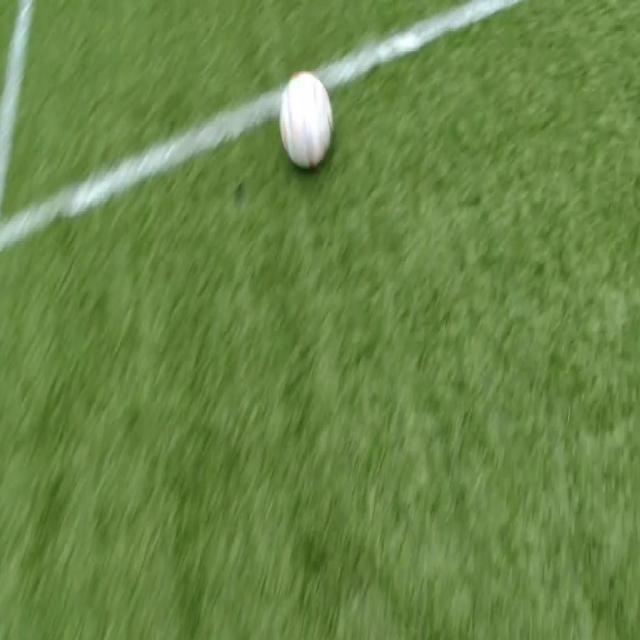ball: (282, 72, 332, 166)
